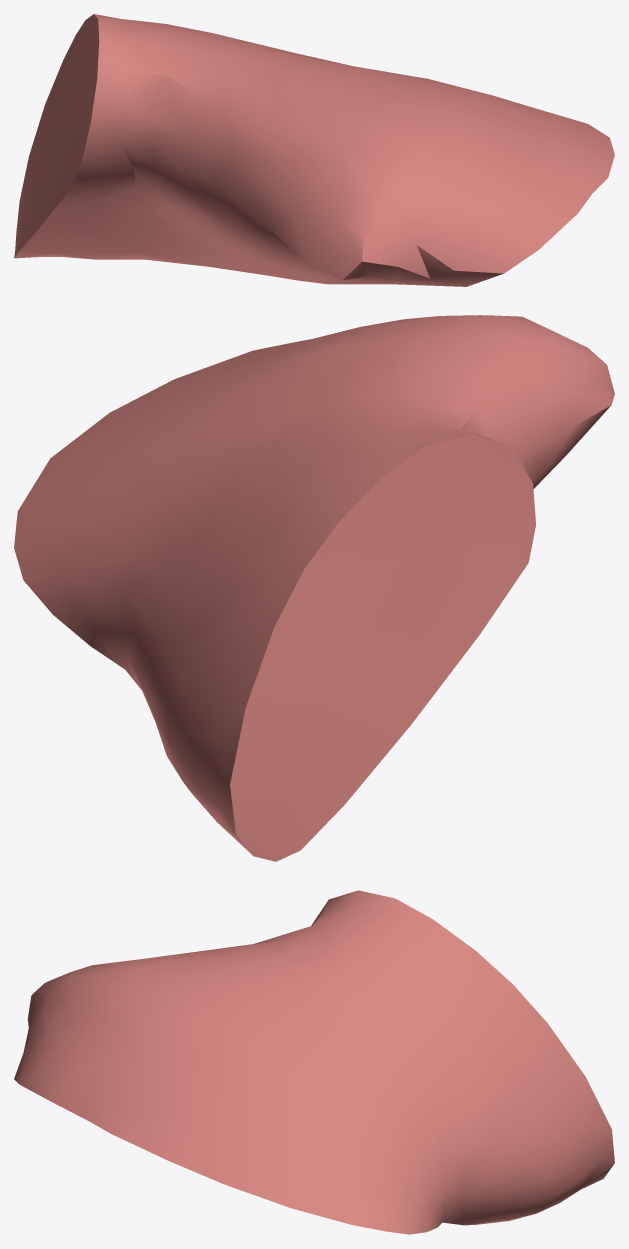
File: fma298581_mm1810m.glb
The picture shows the model from 3 angles, top to bottom: view 1: azimuth 30°, elevation 25°; view 2: azimuth 150°, elevation 25°; view 3: azimuth 270°, elevation 25°; orthographic projection. The views are drawn at different scales.
Visible parts, largest first — view 1: FMA298581_MM1810M; view 2: FMA298581_MM1810M; view 3: FMA298581_MM1810M.
Part boxes in pixels (bbox=[...]): FMA298581_MM1810M: bbox=[14, 14, 614, 286]; FMA298581_MM1810M: bbox=[14, 315, 614, 861]; FMA298581_MM1810M: bbox=[14, 890, 614, 1234].
Size of the model in its own units: 0.0165 by 0.0105 by 0.0211.
